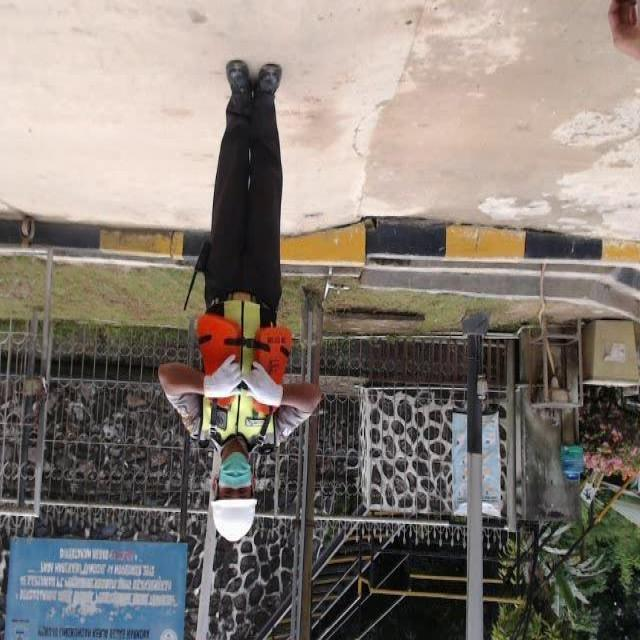Boots: (254, 58, 283, 102), (226, 57, 253, 101)
Gloves: (202, 353, 245, 402), (244, 359, 283, 408)
Helmet: (211, 495, 258, 543)
Vest: (200, 299, 291, 447)
